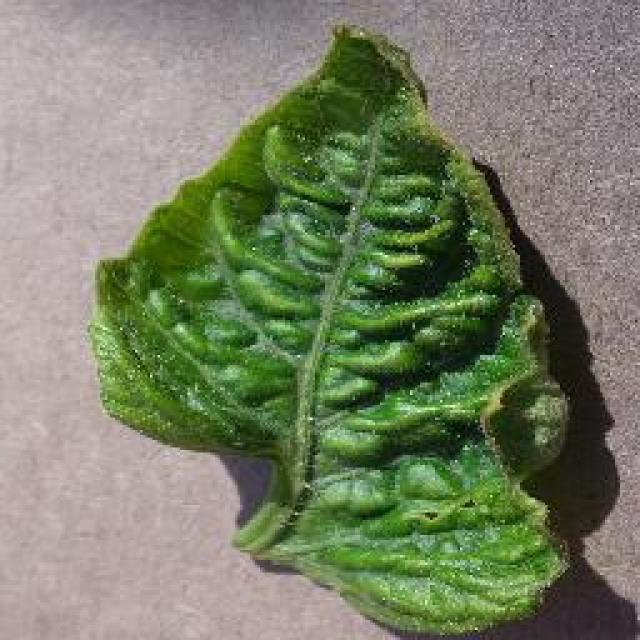Tom_Yellow_Leaf_Curl_Virus: (171, 88, 551, 612)
